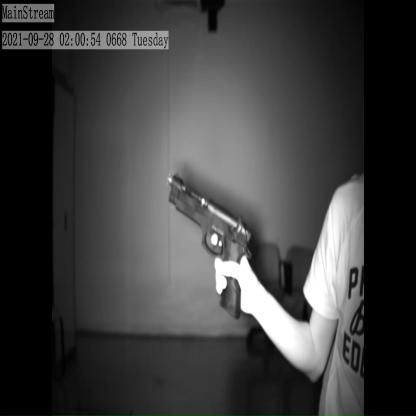weapon: (166, 173, 252, 323)
